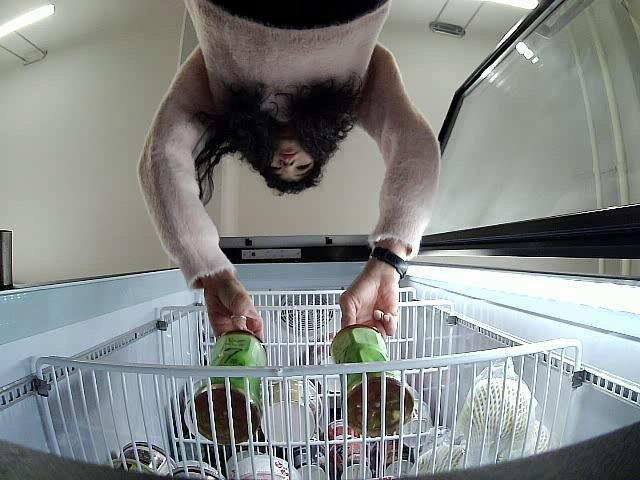19_17cha: (329, 324, 415, 436), (190, 328, 274, 442)
